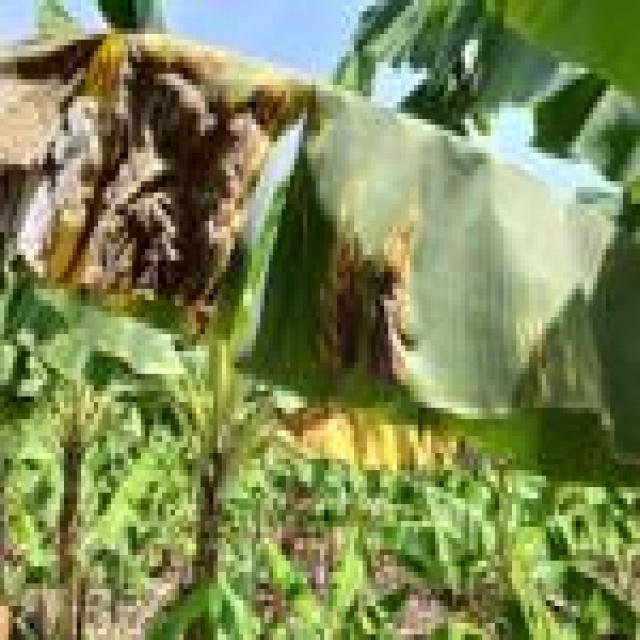Early_rust: (13, 42, 506, 398)
